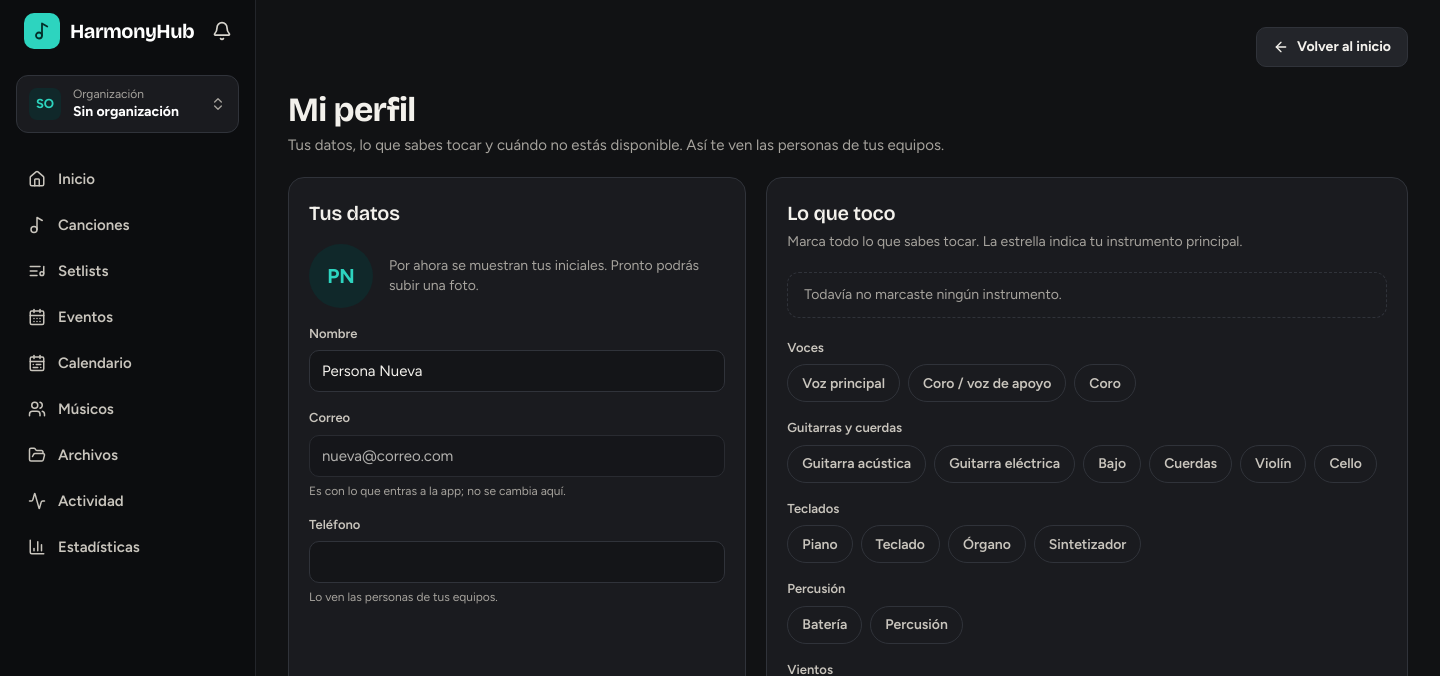
Test: cuenta sin organizacion: entra a la aplicacion › si guarda pero sigue incompleto, o si ya estaba completo, se ve "Cambios guardados." y no el aviso
In the field labelled "Teléfono": (517, 562) x1=309 y1=541 x2=725 y2=583, type "555-1234"
(page scrolled)
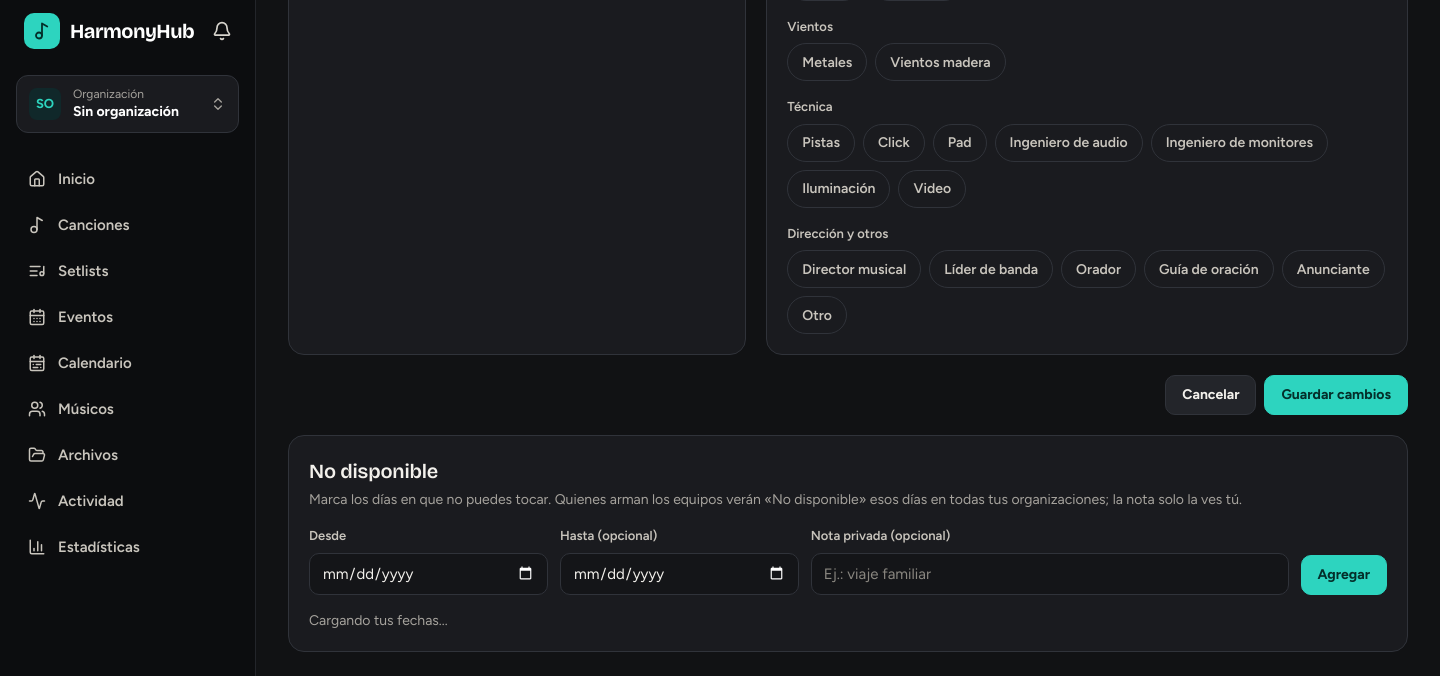
Click the button "Guardar cambios": (1336, 395) x1=1264 y1=375 x2=1408 y2=415
(page scrolled)
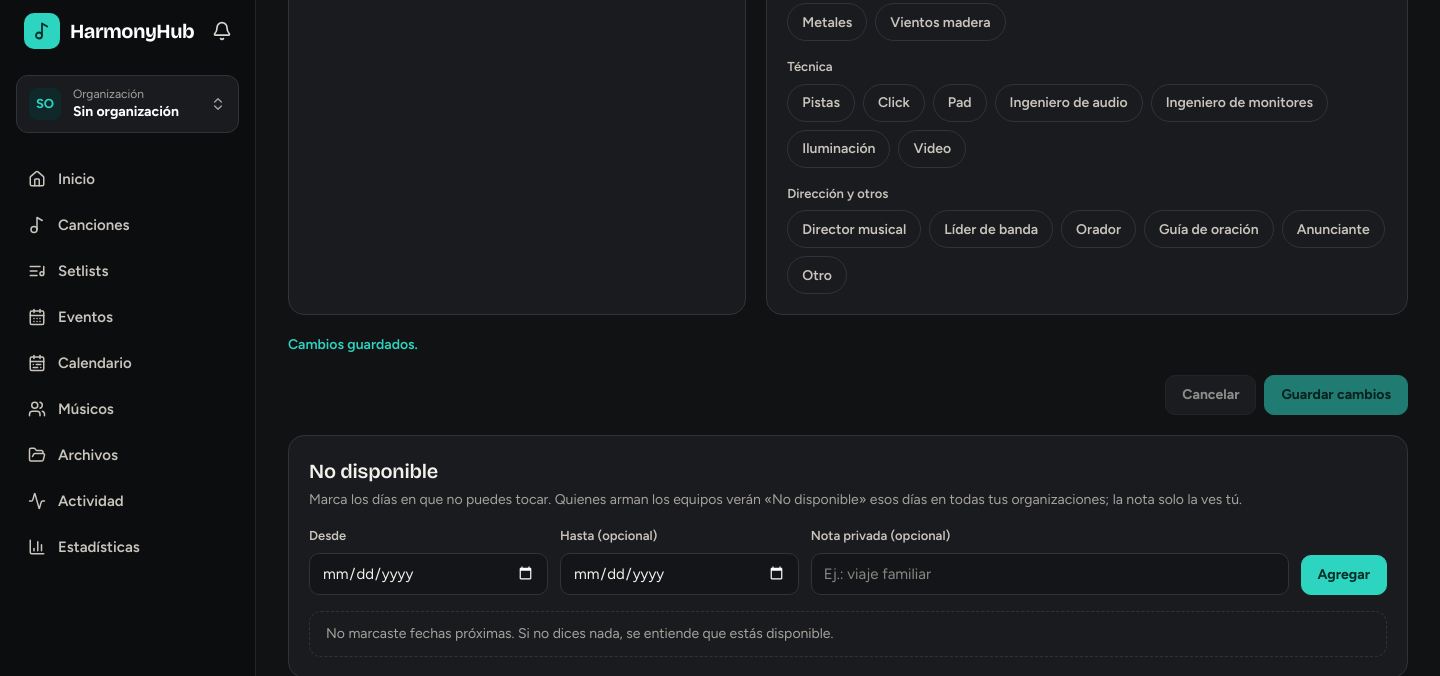
Expected: the text "Cambios guardados." is shown, x1=288 y1=336 x2=418 y2=353
